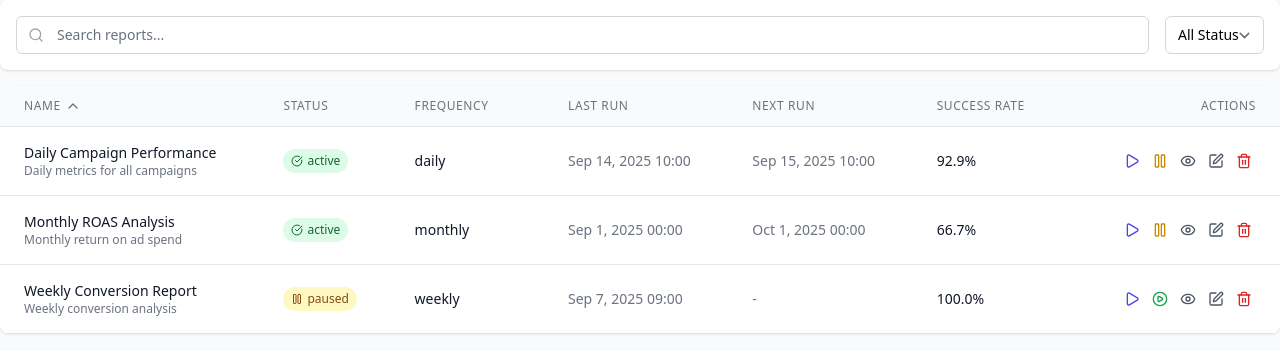
Test: DashboardsTable › filters reports by search
The image size is (1280, 351).
In the field with placeholder "Search reports...": (582, 35) 16,16 -> 1149,54, type "conversion"
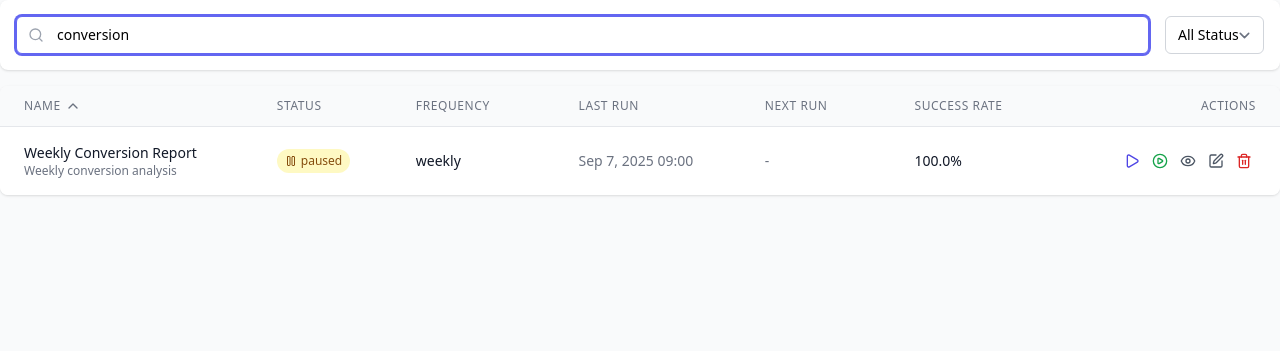
Expected: the text "Weekly Conversion Report" is shown, 24,143 -> 197,162
Now the text "Daily Campaign Performance" is gone
Now the text "Monthly ROAS Analysis" is gone
